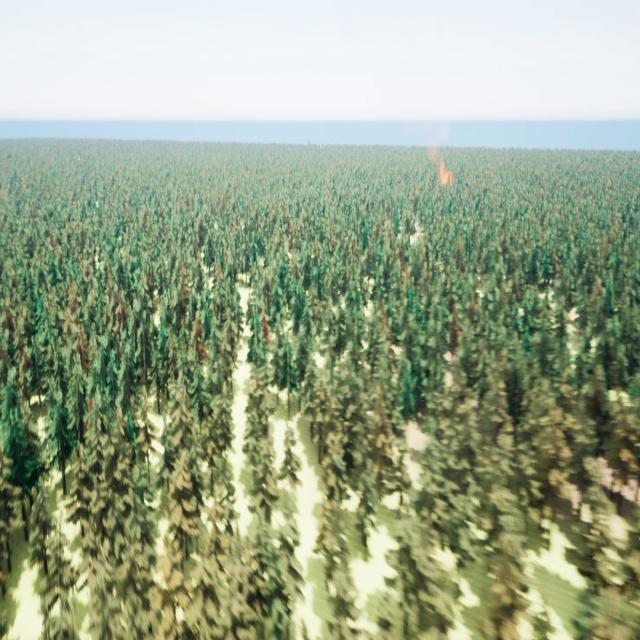fire: (438, 164, 456, 189)
smoke: (424, 114, 446, 168)
